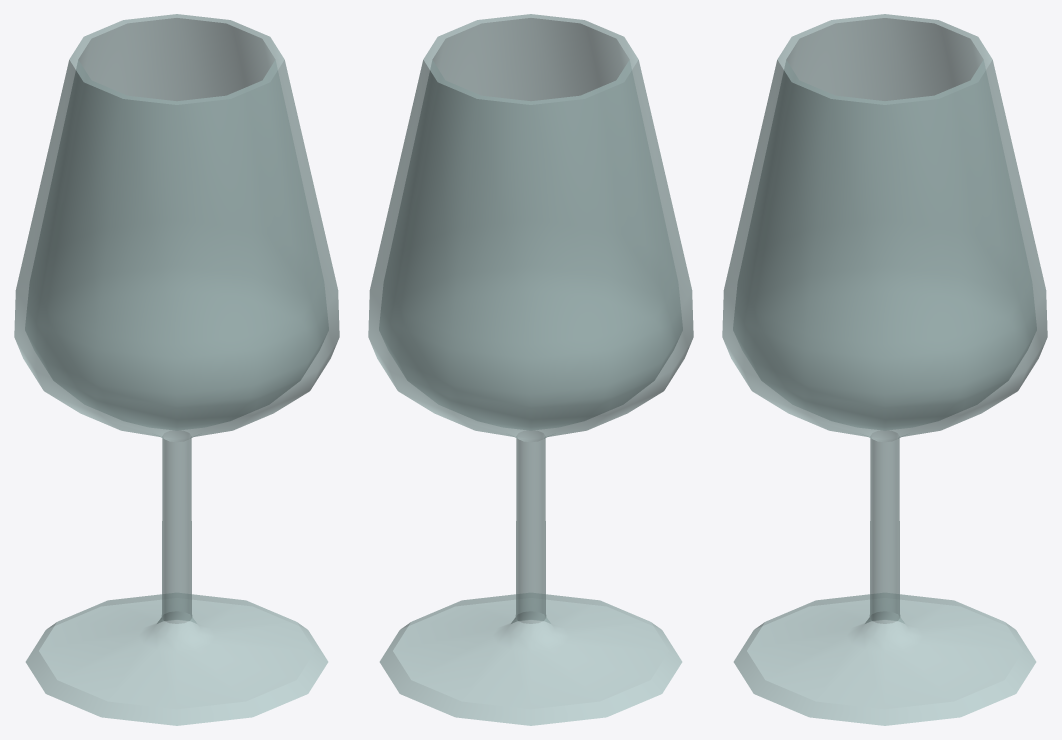
Rendered from wine_glass.fbx.
The picture shows the model from 3 angles, left to right: view 1: azimuth 30°, elevation 25°; view 2: azimuth 150°, elevation 25°; view 3: azimuth 270°, elevation 25°; orthographic projection.
Visible parts, largest first — view 1: wine_glass; view 2: wine_glass; view 3: wine_glass.
Boxes of the visible parts, x1,y1,x2,y2 form: wine_glass: (14, 14, 339, 725); wine_glass: (368, 14, 693, 725); wine_glass: (722, 14, 1047, 725).
Size of the model in its own units: 0.0783 by 0.0783 by 0.16.
